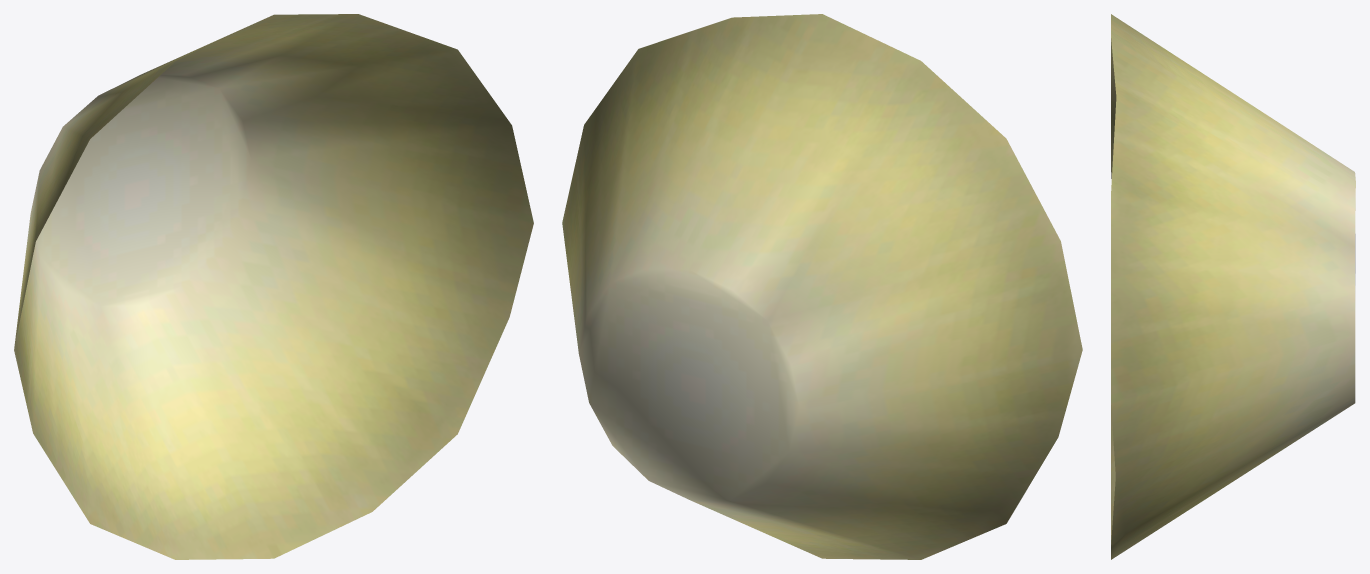
File: star_destroyer_space_engine2_on_l1.fbx
3 renders of one model, left to right at view 1: azimuth 30°, elevation 25°; view 2: azimuth 150°, elevation 25°; view 3: azimuth 270°, elevation 25°, orthographic. The views are drawn at different scales.
Visible parts, largest first — view 1: mesh_node; view 2: mesh_node; view 3: mesh_node.
Part boxes in pixels (x1=…): mesh_node: x1=14, y1=14, x2=533, y2=559; mesh_node: x1=562, y1=14, x2=1082, y2=559; mesh_node: x1=1111, y1=14, x2=1355, y2=559.
Size of the model in its own units: 174 by 174 by 77.26.
